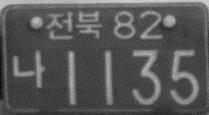1: (64, 48, 78, 108), (102, 48, 116, 107)
2: (138, 10, 164, 41)
3: (130, 48, 161, 105)
5: (169, 47, 201, 107)
8: (113, 10, 136, 40)
나: (11, 48, 46, 89)
전북_O: (45, 10, 103, 42)
